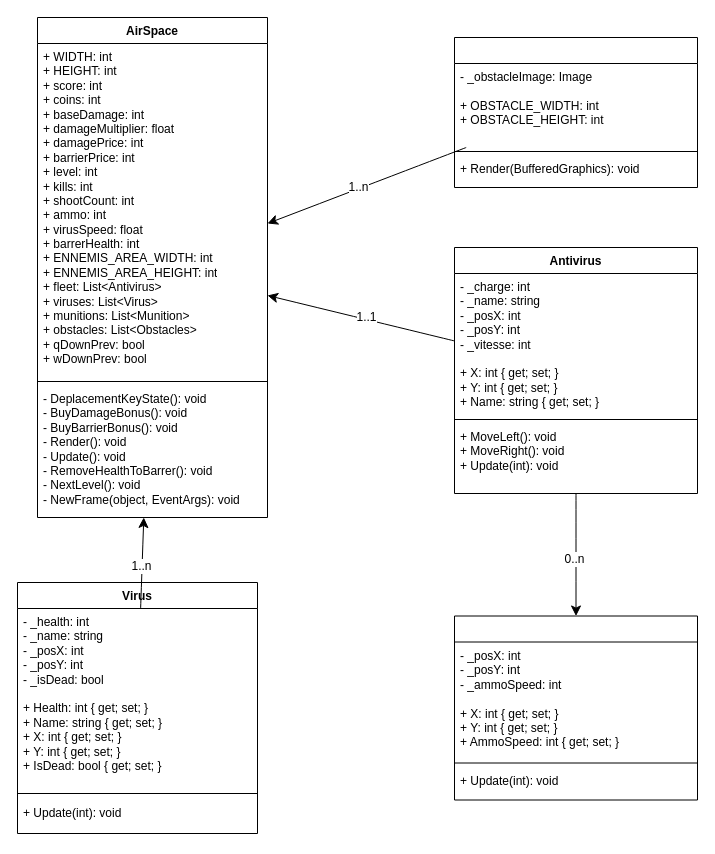
This 715x854 diagram has some shape labels left out. The shapes that lost their labels are listed below. From the top down, each one's box as (x1, y1, x2, y2) in pixels, then its label:
(454, 36, 698, 188): Obstacles
(454, 615, 698, 800): Munitions
